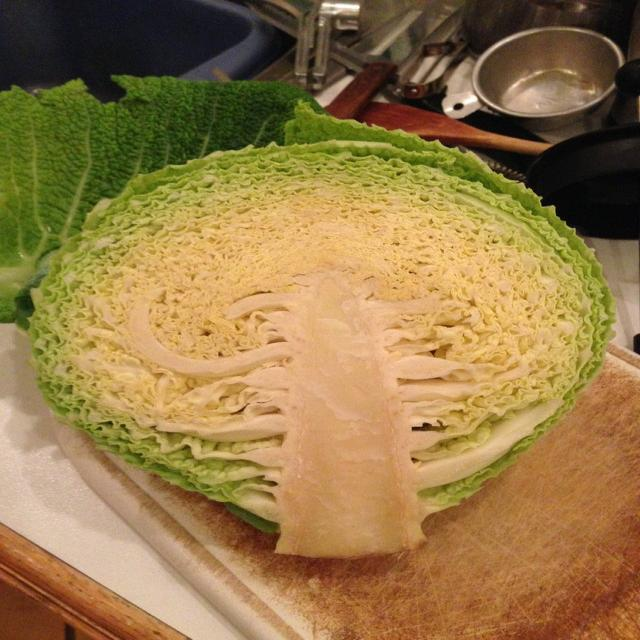haft-cabbage: (36, 142, 597, 560)
